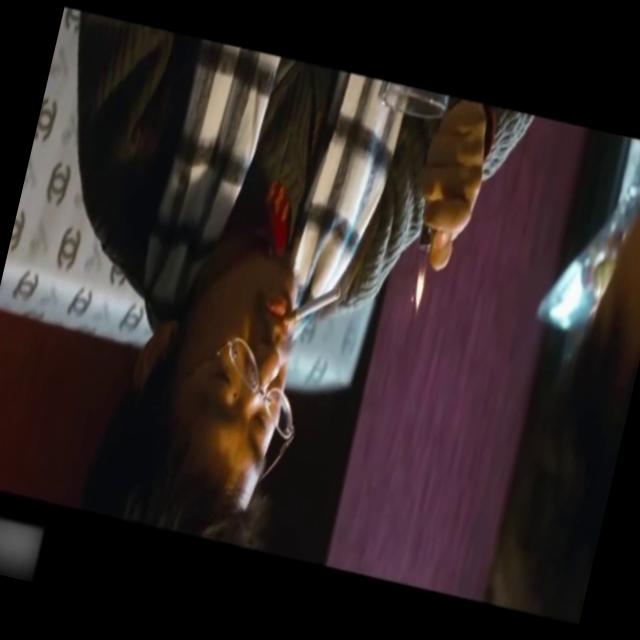smoke: (286, 278, 342, 340)
